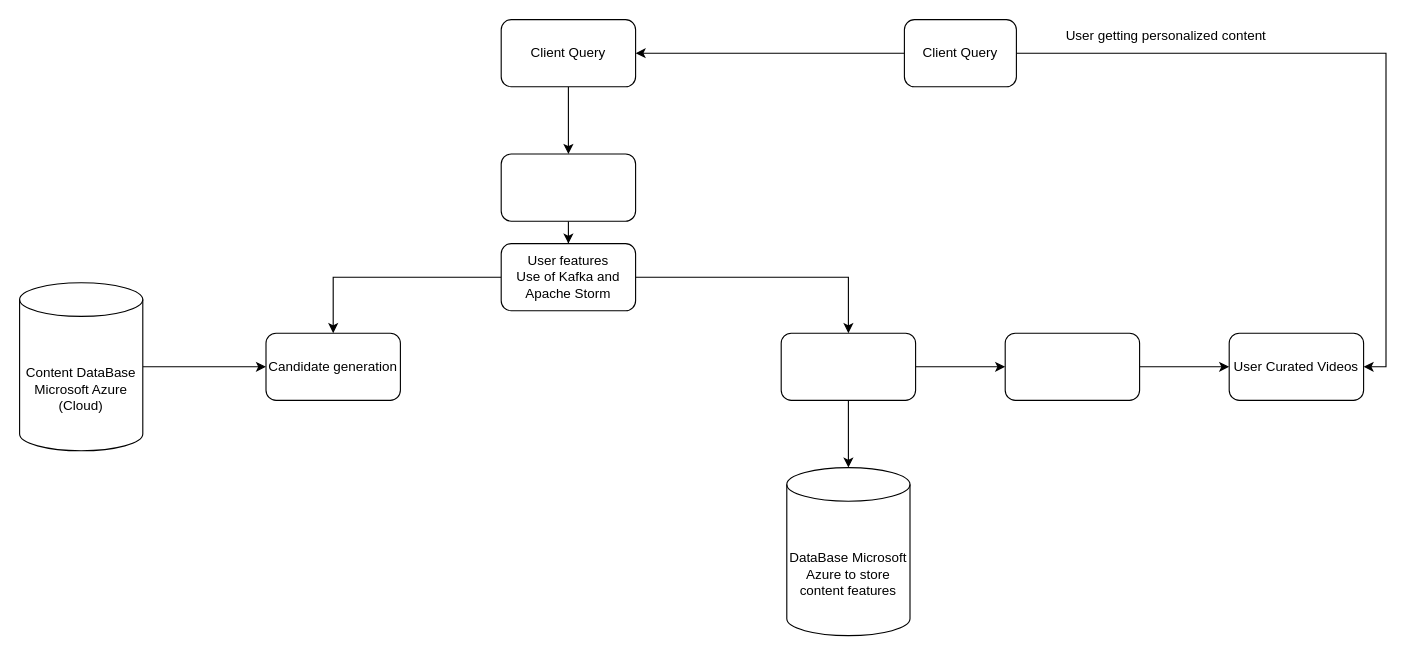
The diagram is 1415 pixels wide and 655 high, and some of its shapes have lost their labels. The shapes that lost their labels are listed below. From the top down, each one's centre as x and y in pixels, then its label:
At (568,187): "Feature preparation".
At (848,366): "Scoring".
At (1072,366): "Re-ranking".
